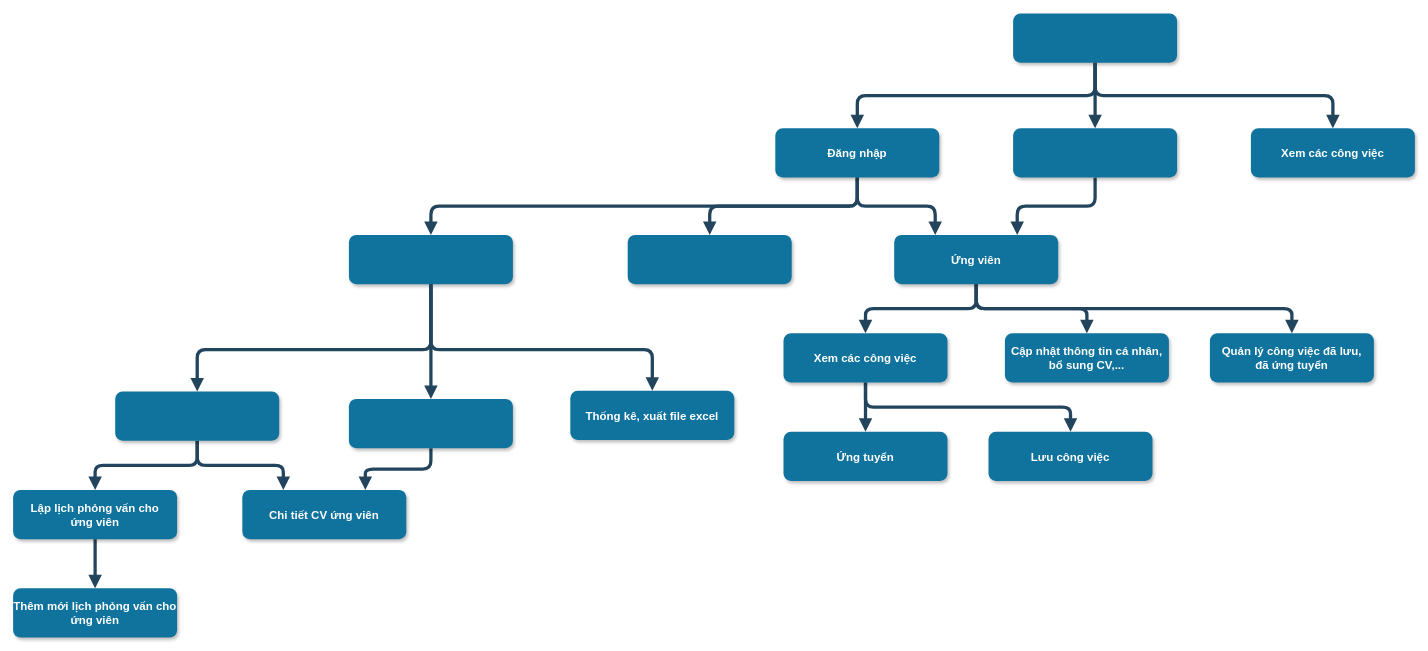
This 1428x651 diagram has some shape labels left out. Here are the shapes that lost their labels. From the top down, the centre of each, then its label:
(1095,39): Trang chủ
(1095,154): Đăng ký
(431,260): Người quản trị
(710,260): Quên mật khẩu (gửi email)
(198,417): Danh sách ứng viên
(431,424): Đánh giá ứng viên
